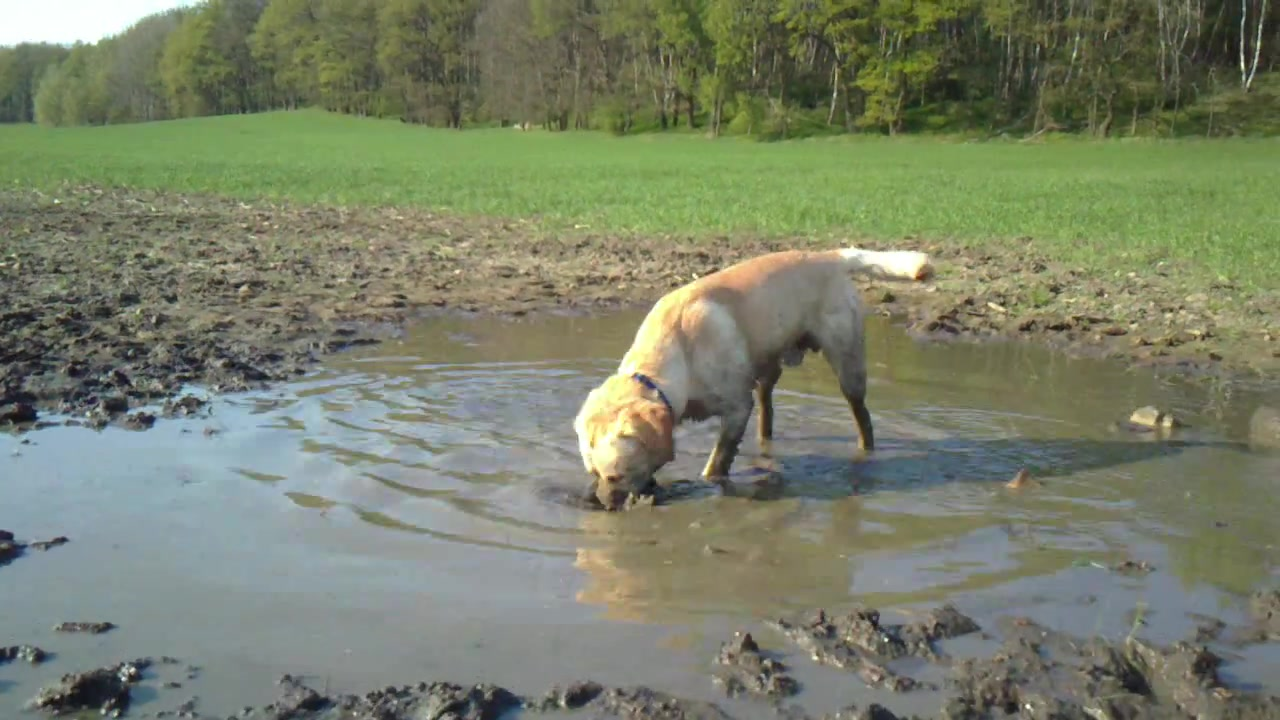dog: (571, 243, 938, 511)
